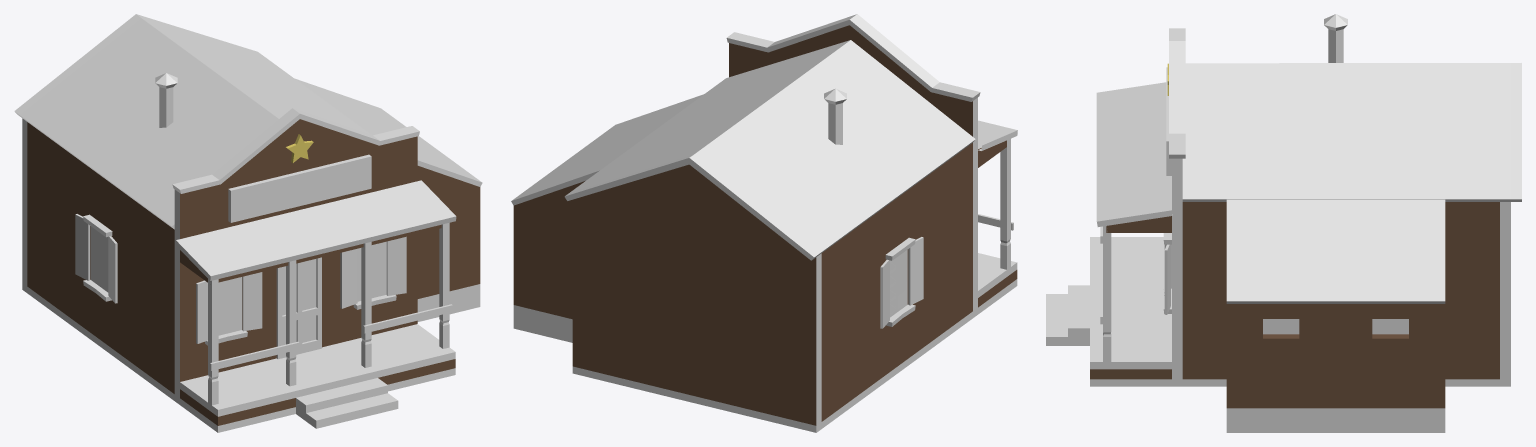
The model's file is western-house-scheriff.fbx.
3 views of the same model, side by side, from view 1: azimuth 30°, elevation 25°; view 2: azimuth 150°, elevation 25°; view 3: azimuth 270°, elevation 25° (orthographic). The views are drawn at different scales.
Parts seen in each view (by area): view 1: western-house-scheriff, western-house-scheriff-jail; view 2: western-house-scheriff, western-house-scheriff-jail; view 3: western-house-scheriff, western-house-scheriff-jail.
Part boxes in pixels (box(x1,y1,x2,y2)): western-house-scheriff: box(14, 14, 456, 432); western-house-scheriff-jail: box(295, 78, 482, 321); western-house-scheriff: box(564, 14, 1017, 432); western-house-scheriff-jail: box(511, 94, 703, 342); western-house-scheriff: box(1046, 14, 1521, 386); western-house-scheriff-jail: box(1226, 199, 1445, 432).
Size of the model in its own units: 7.61 by 5.71 by 8.7.
